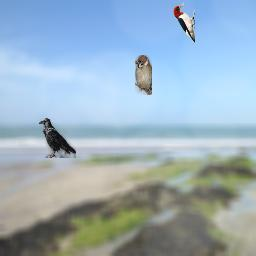Crow: (39, 118, 76, 158)
Sparrow: (135, 55, 152, 95)
Woodpecker: (173, 3, 195, 43)
